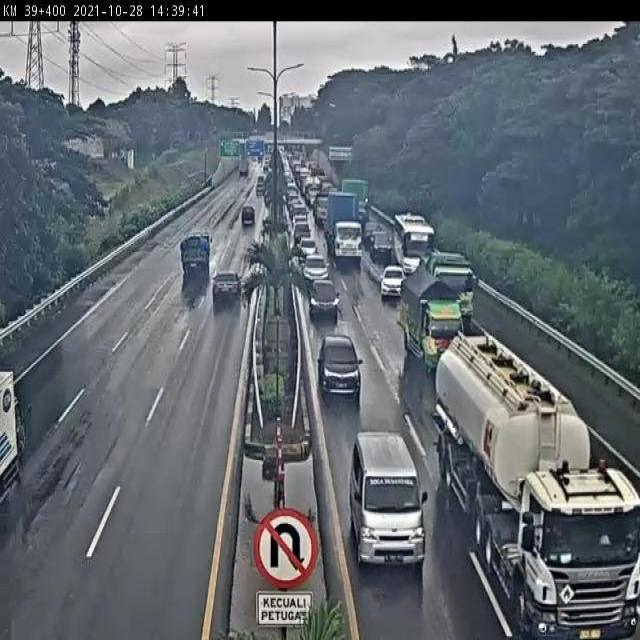car: (351, 431, 428, 568), (318, 336, 363, 392), (211, 268, 244, 301), (308, 279, 339, 313), (380, 261, 407, 296), (302, 252, 327, 281), (367, 228, 390, 257), (240, 205, 257, 227)
truck: (435, 336, 640, 640), (399, 267, 463, 368), (422, 251, 476, 325), (395, 212, 435, 277), (325, 187, 361, 259), (178, 231, 211, 272)
